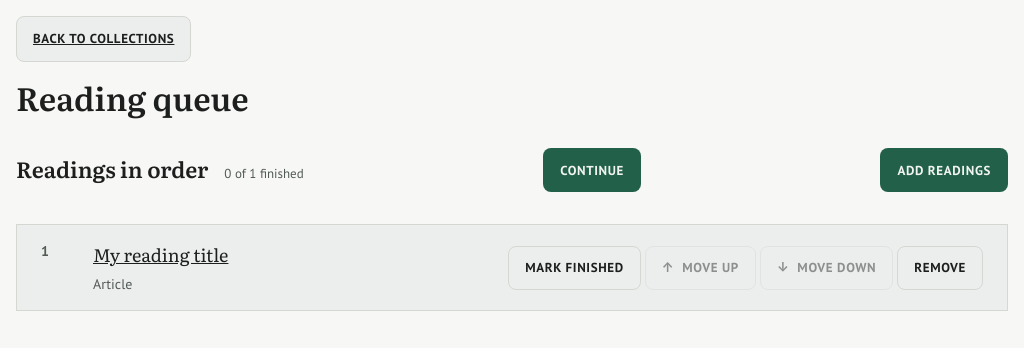
Test case: collection detail shared completion (issue #246) › a failed correction announces the honest failure and keeps the retry label
Step 1. Click the button "Mark finished" → (574, 268), box [508,246,641,290]
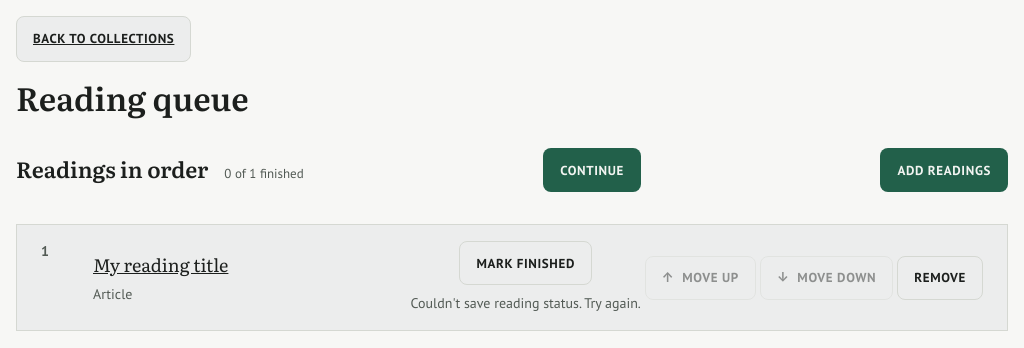
Expected: the text "Couldn't save reading status. Try again." is shown, [410,293,641,314]
